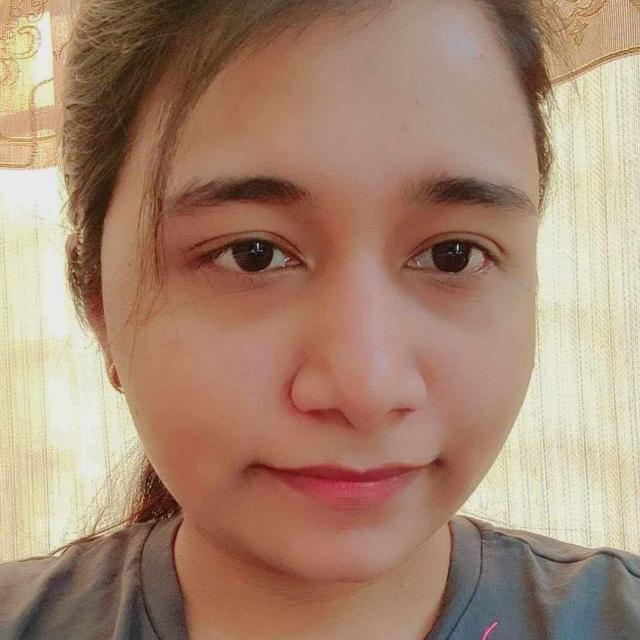Natural: (68, 39, 571, 600)
